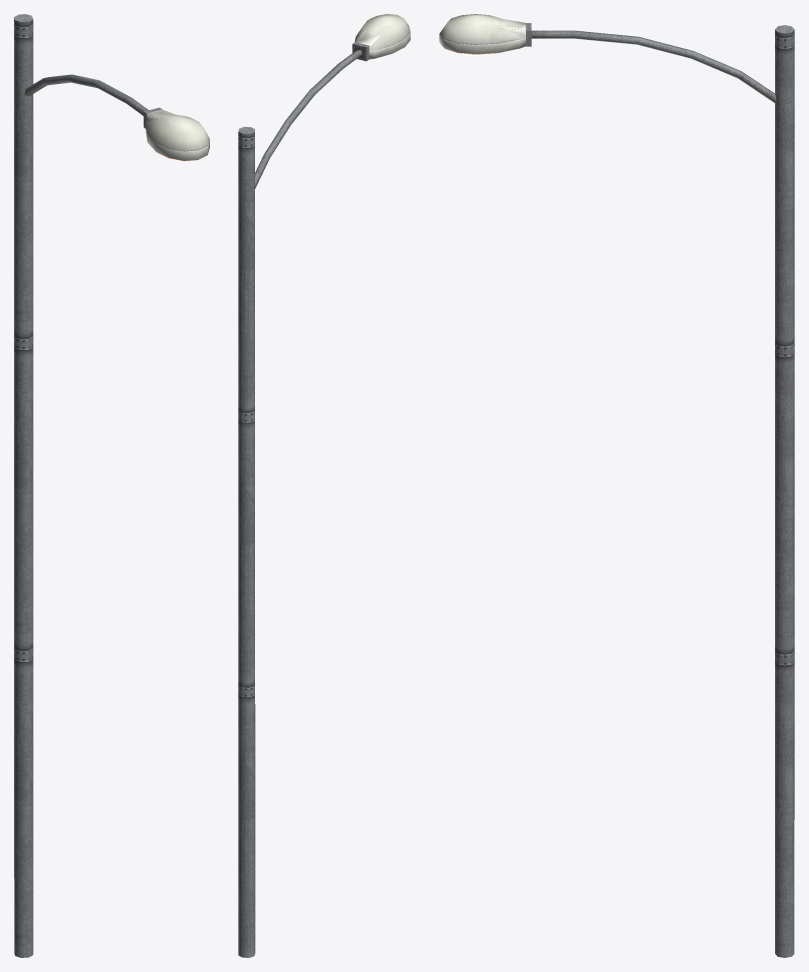
The model's file is lamp_post.dae.
3 views of the same model, side by side, from view 1: azimuth 30°, elevation 25°; view 2: azimuth 150°, elevation 25°; view 3: azimuth 270°, elevation 25° (orthographic). The views are drawn at different scales.
Visible parts, largest first — view 1: Sphere001; view 2: Sphere001; view 3: Sphere001.
Part boxes in pixels (<box>): Sphere001: <box>14,14,209,957</box>; Sphere001: <box>238,14,410,957</box>; Sphere001: <box>439,14,794,957</box>.
Size of the model in its own units: 6.41 by 41.76 by 122.
